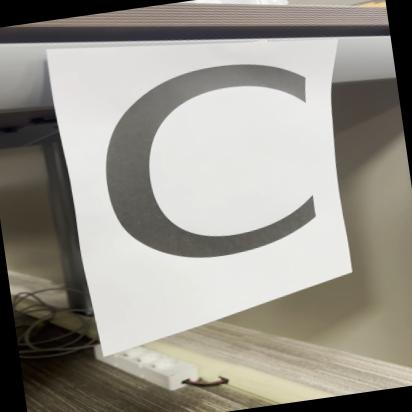seat: (44, 10, 354, 331)
